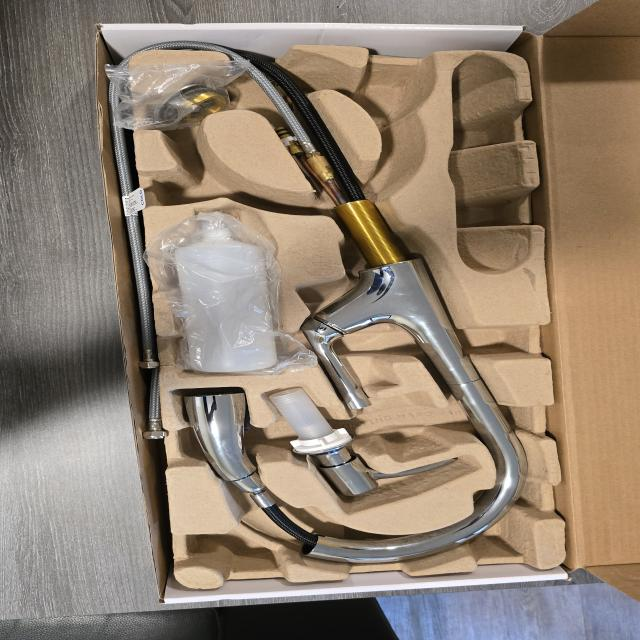1: (183, 50, 528, 565)
2: (264, 388, 459, 498)
3: (170, 214, 282, 374)
4m: (447, 54, 532, 274)
5m: (356, 69, 423, 124)
6: (102, 60, 249, 131)
7m: (151, 141, 288, 206)
